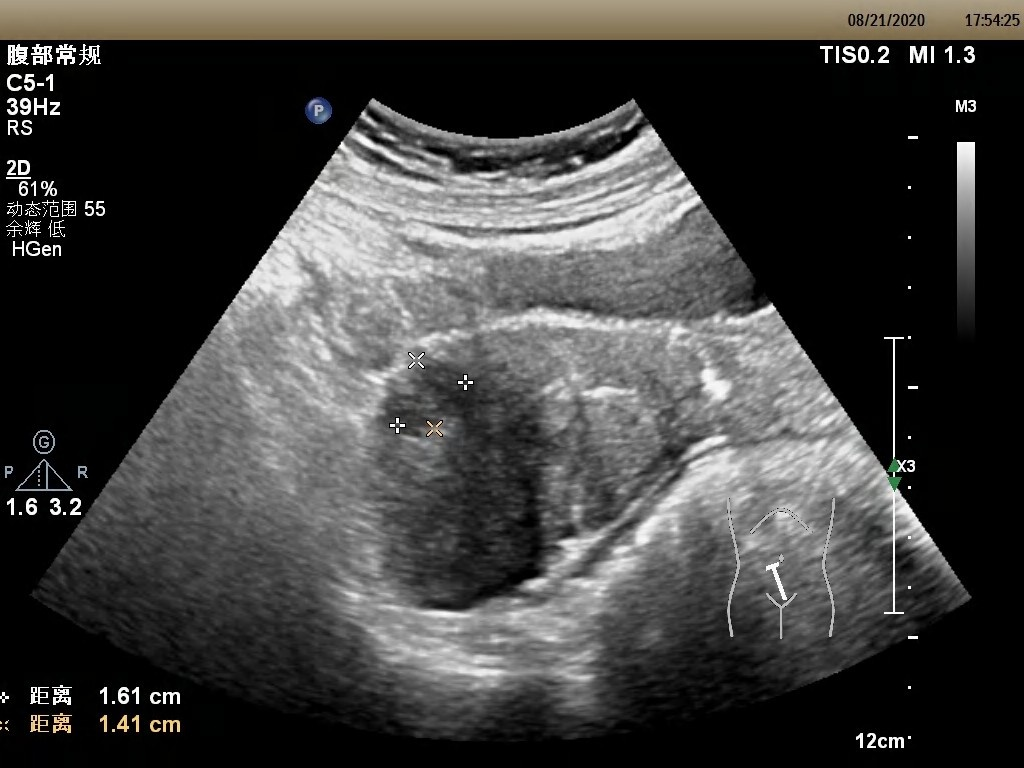肌瘤: (396, 362, 464, 430)
